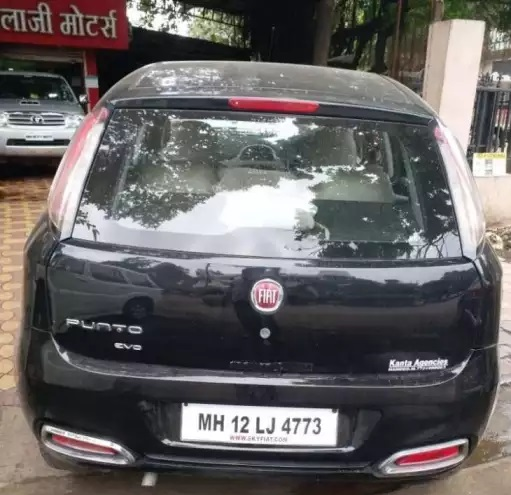licenseplate: (179, 397, 340, 453)
